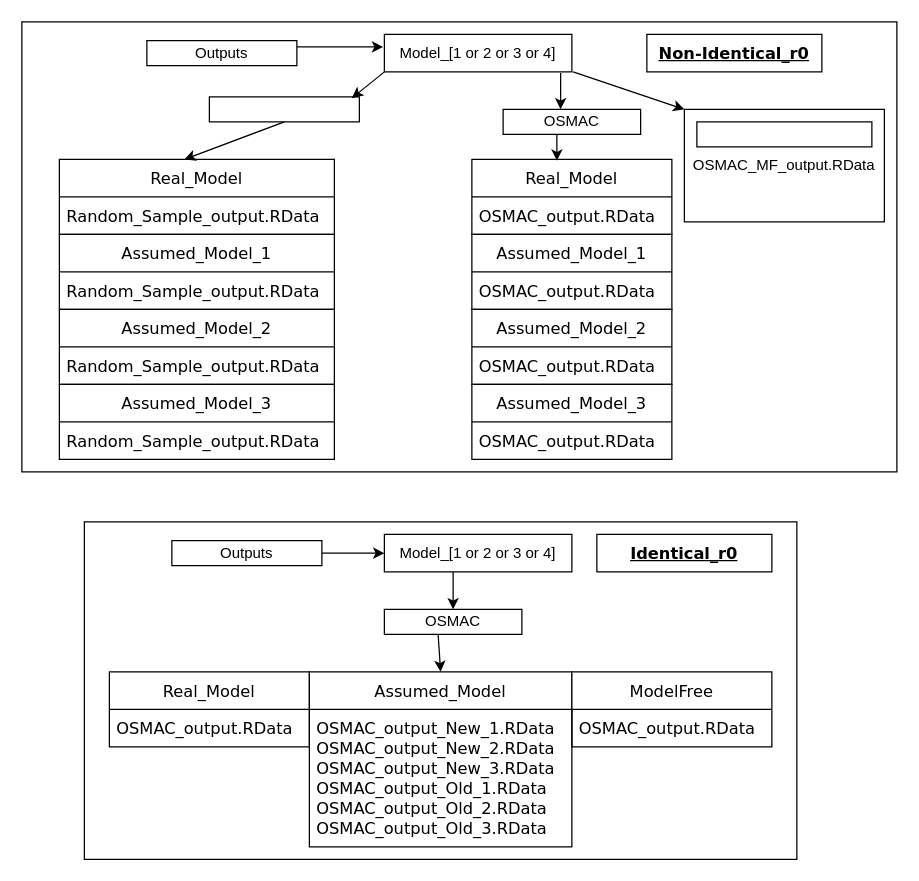
Some shapes in this 919 by 881 pixel diagram are drawn without their labels. Each missing label, with the centre of its shape:
OSMAC_Model_Free: (784,134)
Random_Sampling: (283,109)
